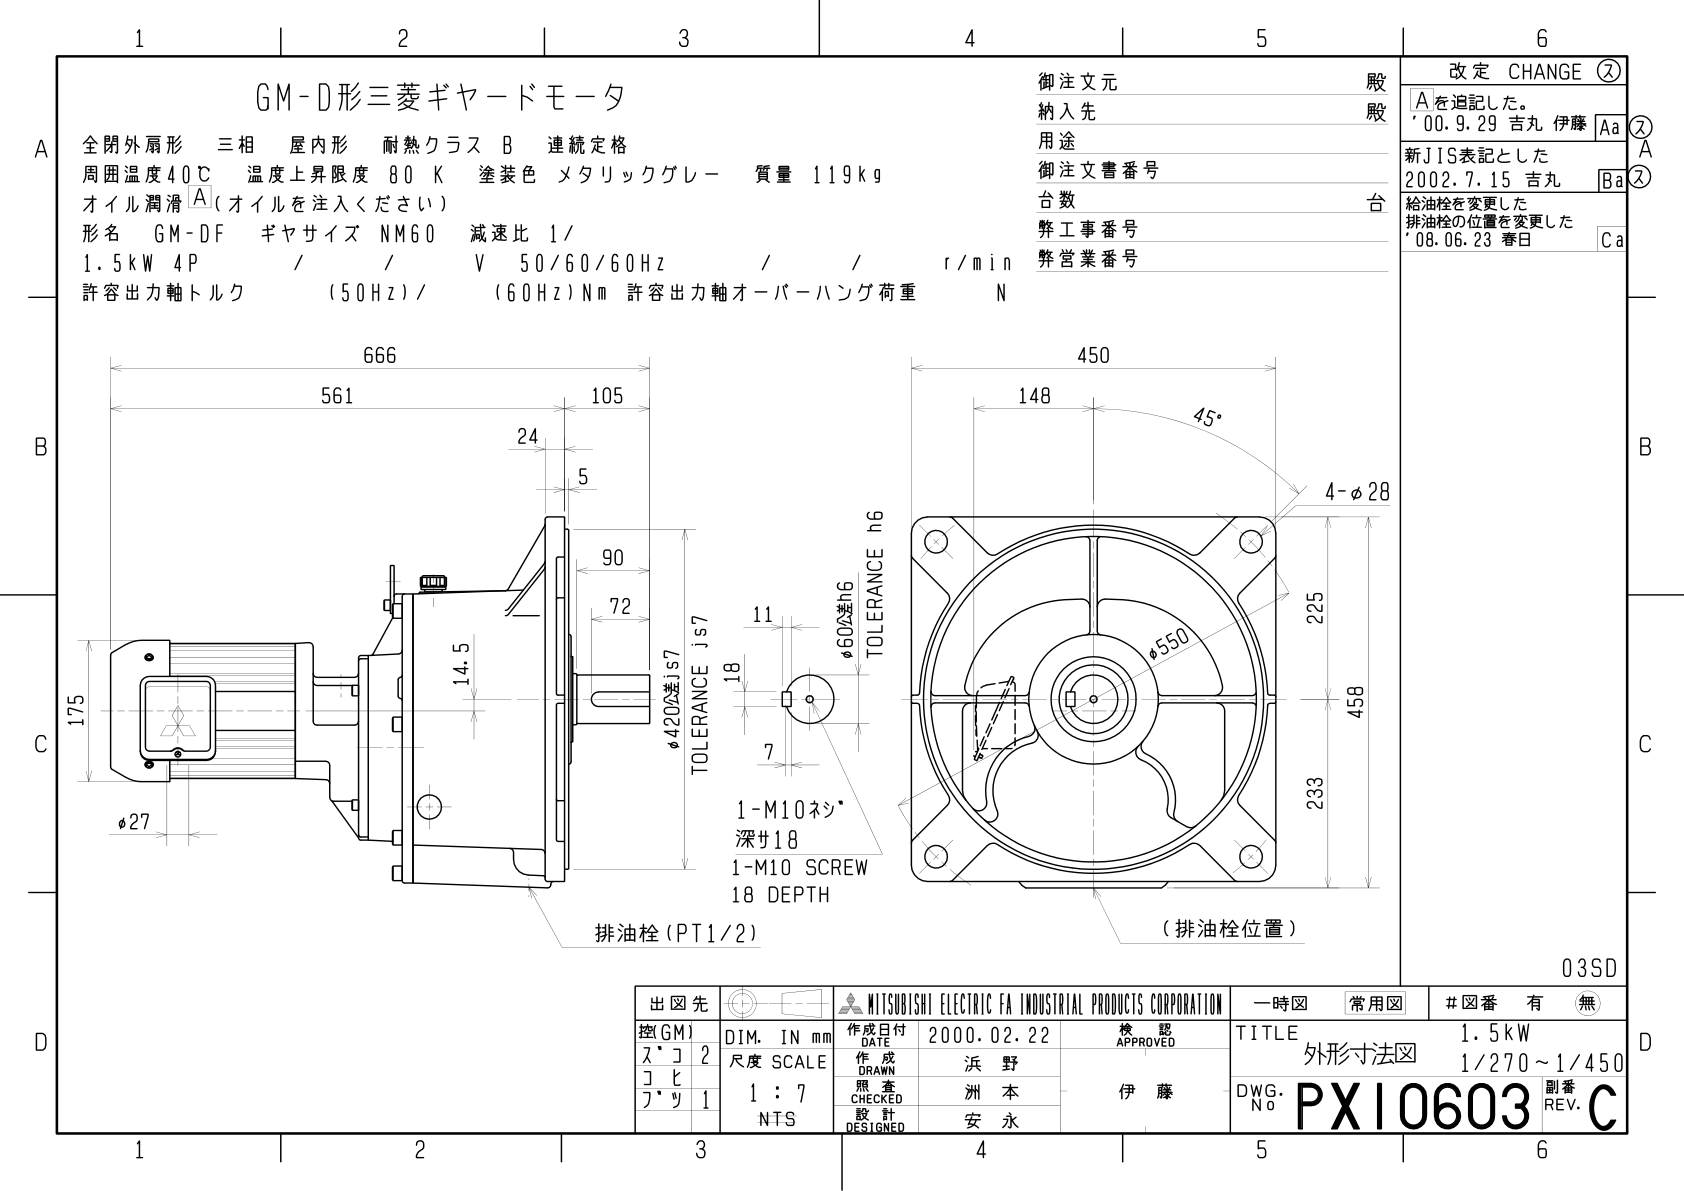GM_D_屋内＿三相_フランジ: (61, 339, 1389, 947)
